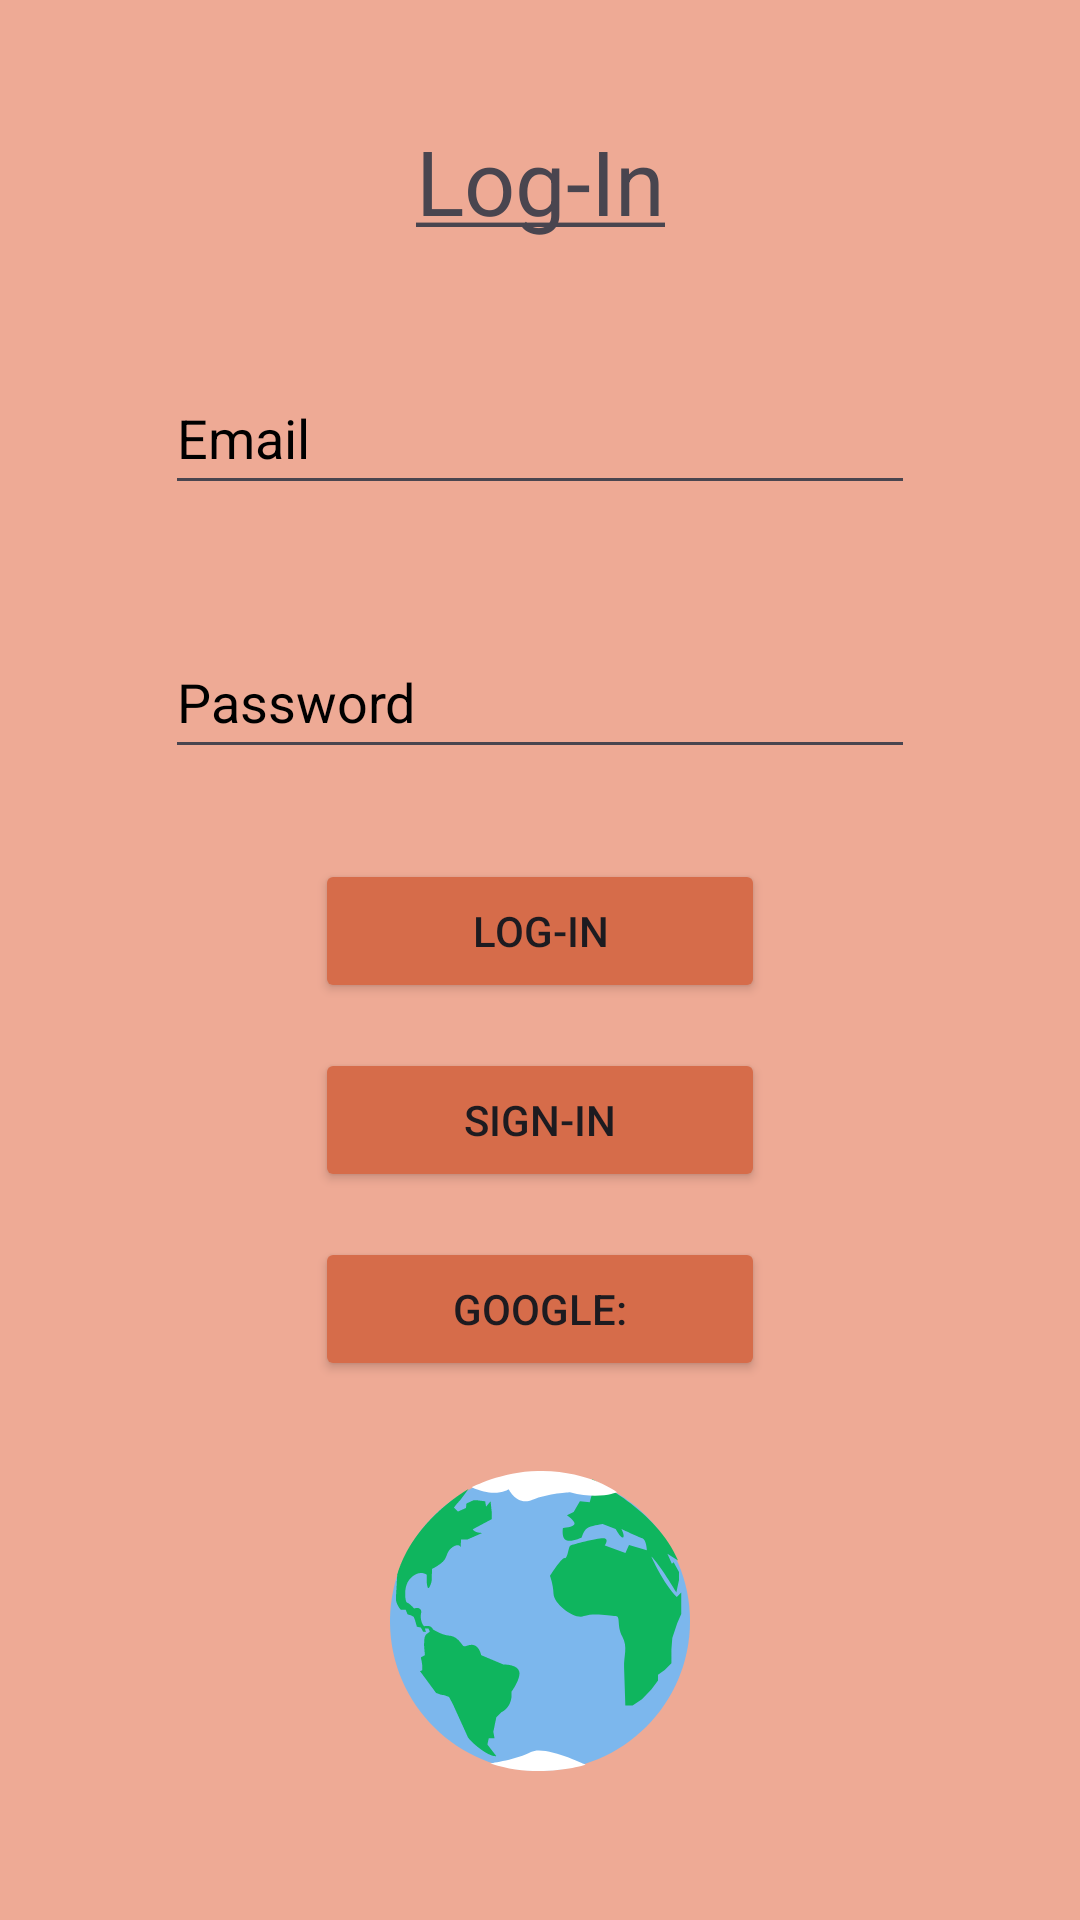

Icon bounding boxes for this 1080×1920 phone screenshot, format (x1, y1, x2, y2):
earth login: (390, 1471, 690, 1771)
